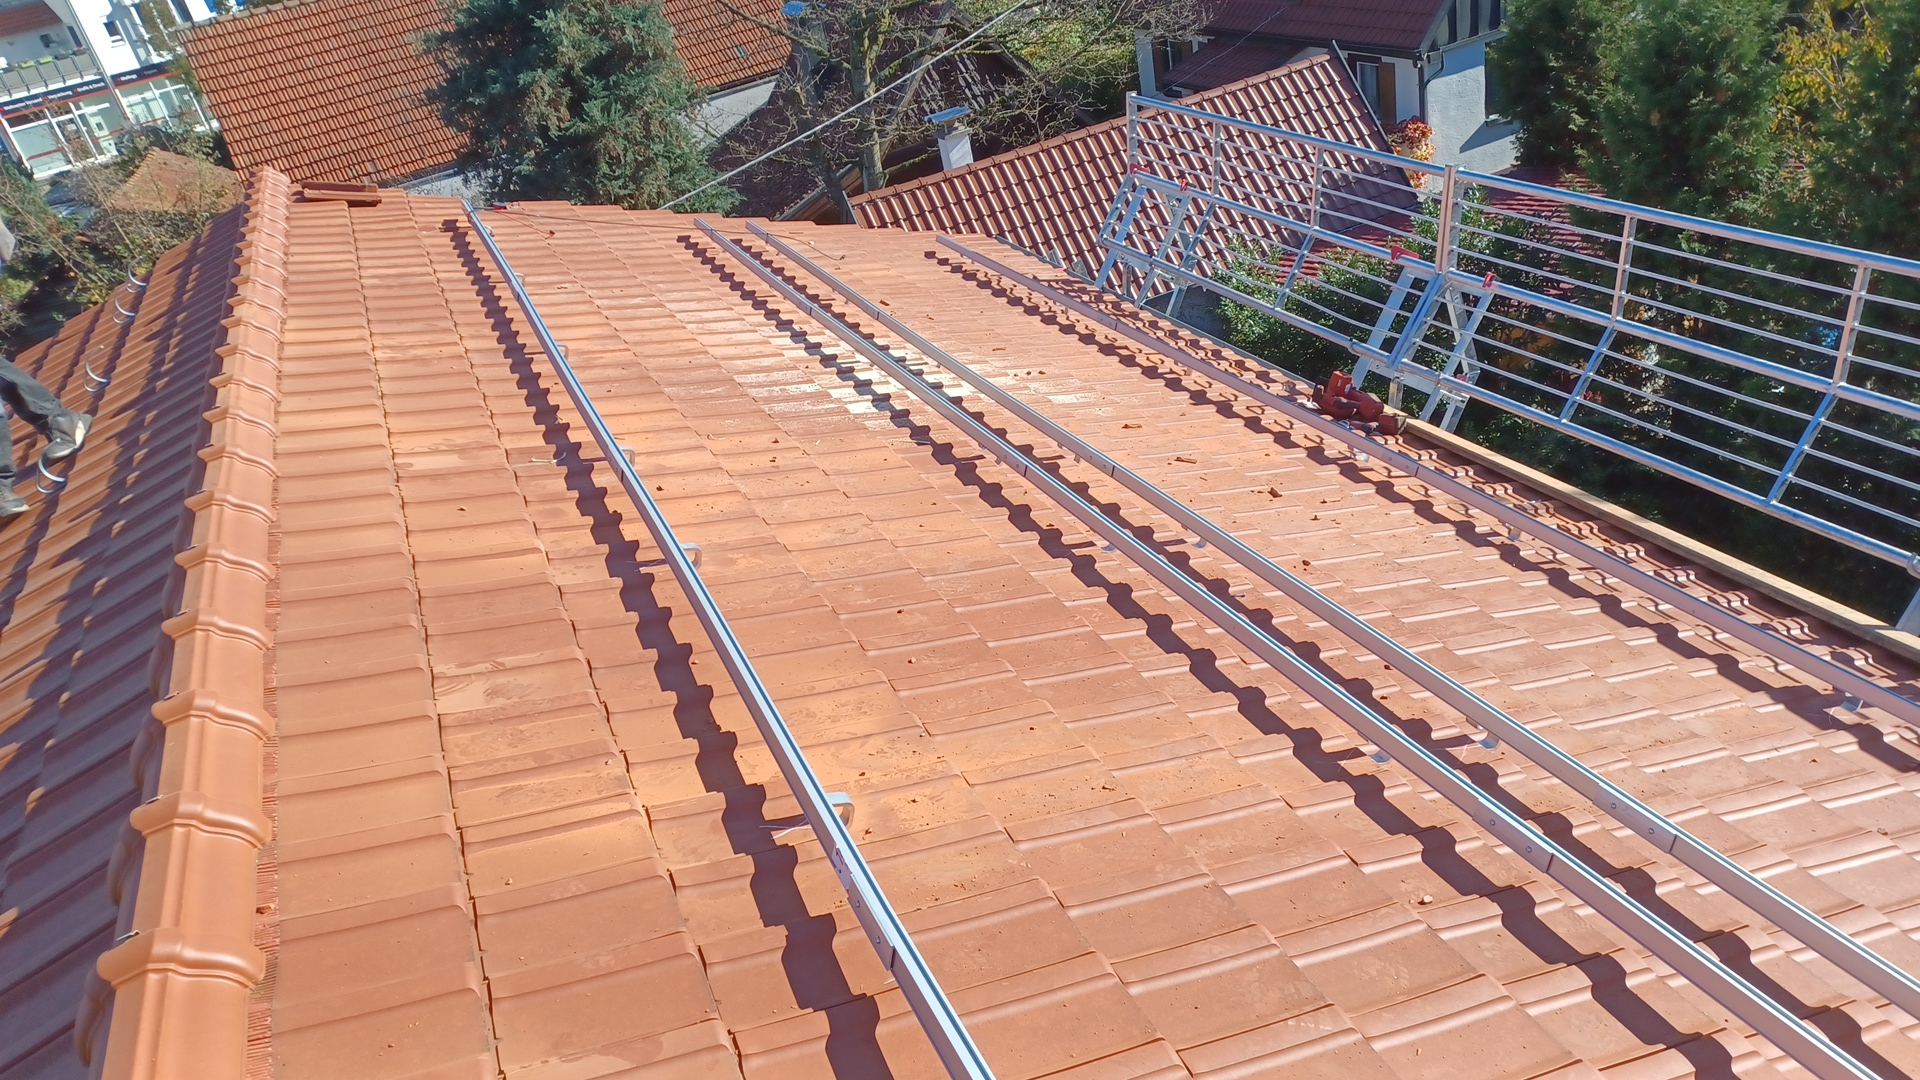hook: (1465, 716, 1501, 750), (824, 793, 855, 829), (676, 543, 702, 570), (977, 442, 1004, 465), (1497, 517, 1523, 541), (1058, 440, 1083, 464), (1840, 691, 1863, 713), (1367, 746, 1393, 764), (1348, 443, 1370, 462), (618, 446, 636, 467), (769, 284, 789, 301), (1174, 359, 1193, 376), (832, 287, 849, 305), (555, 342, 568, 363), (765, 237, 781, 255), (1054, 299, 1069, 315), (1191, 535, 1208, 549), (513, 273, 525, 287), (1100, 542, 1116, 553), (960, 253, 975, 264), (483, 225, 493, 237), (935, 363, 942, 368)
